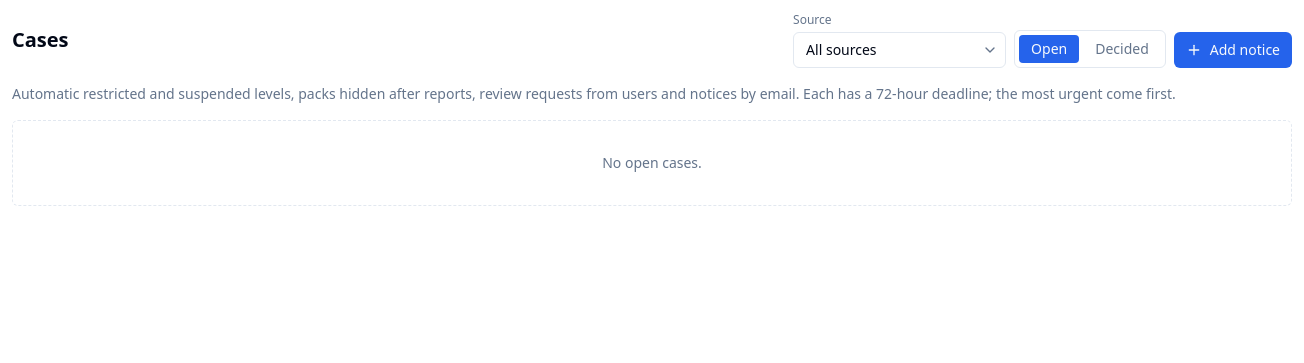
CasesPage sources › shows the outcome and the email state of a decided notice
Step 1. Click the tab "Decided" → (1122, 49), box x1=1083 y1=35 x2=1161 y2=63
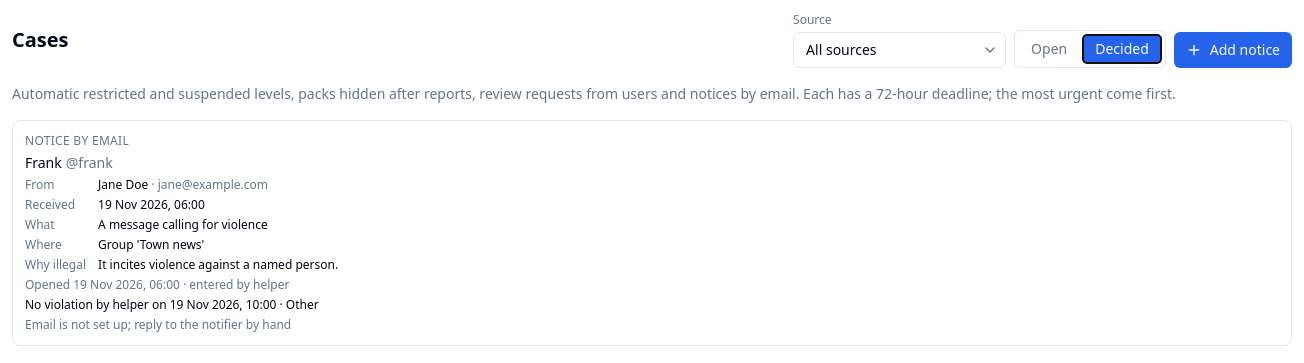
Result: the text "No violation by helper on 19 Nov 2026, 10:00 · Other" is shown at x1=25 y1=297 x2=338 y2=313
Result: the text "Email is not set up; reply to the notifier by hand" is shown at x1=25 y1=317 x2=338 y2=333
